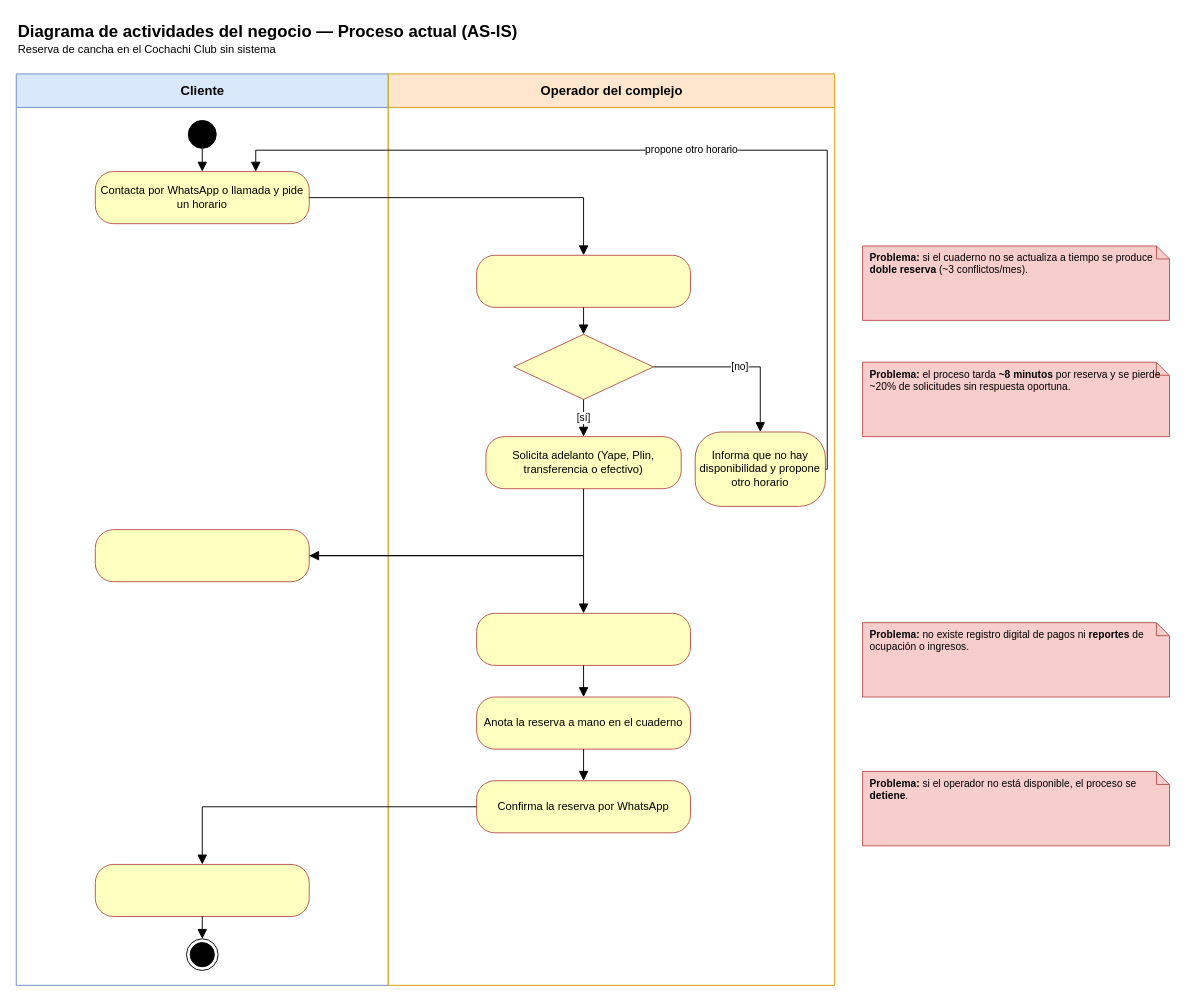
This 1186x1002 diagram has some shape labels left out. Each missing label, with the centre of its shape:
"Realiza el pago y envía captura del voucher" goes at [201,555].
"Recibe la confirmación" goes at [201,890].
"Revisa disponibilidad en el cuaderno físico" goes at [583,280].
"Verifica el pago revisando la app del banco" goes at [583,638].
"¿Horario libre?" goes at [583,366].
